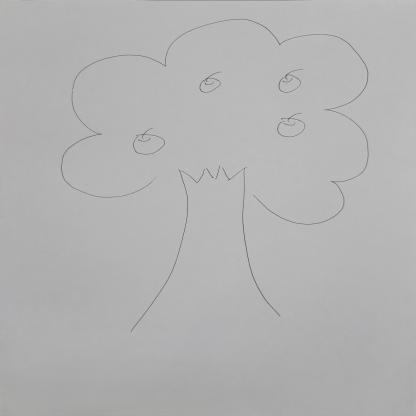apple: (130, 132, 170, 157), (272, 115, 310, 141), (277, 72, 304, 95), (197, 76, 224, 94)
branch_sharp: (173, 163, 253, 194)
crown_cloud: (51, 15, 374, 229)
trunk_reflex: (164, 210, 261, 285)
